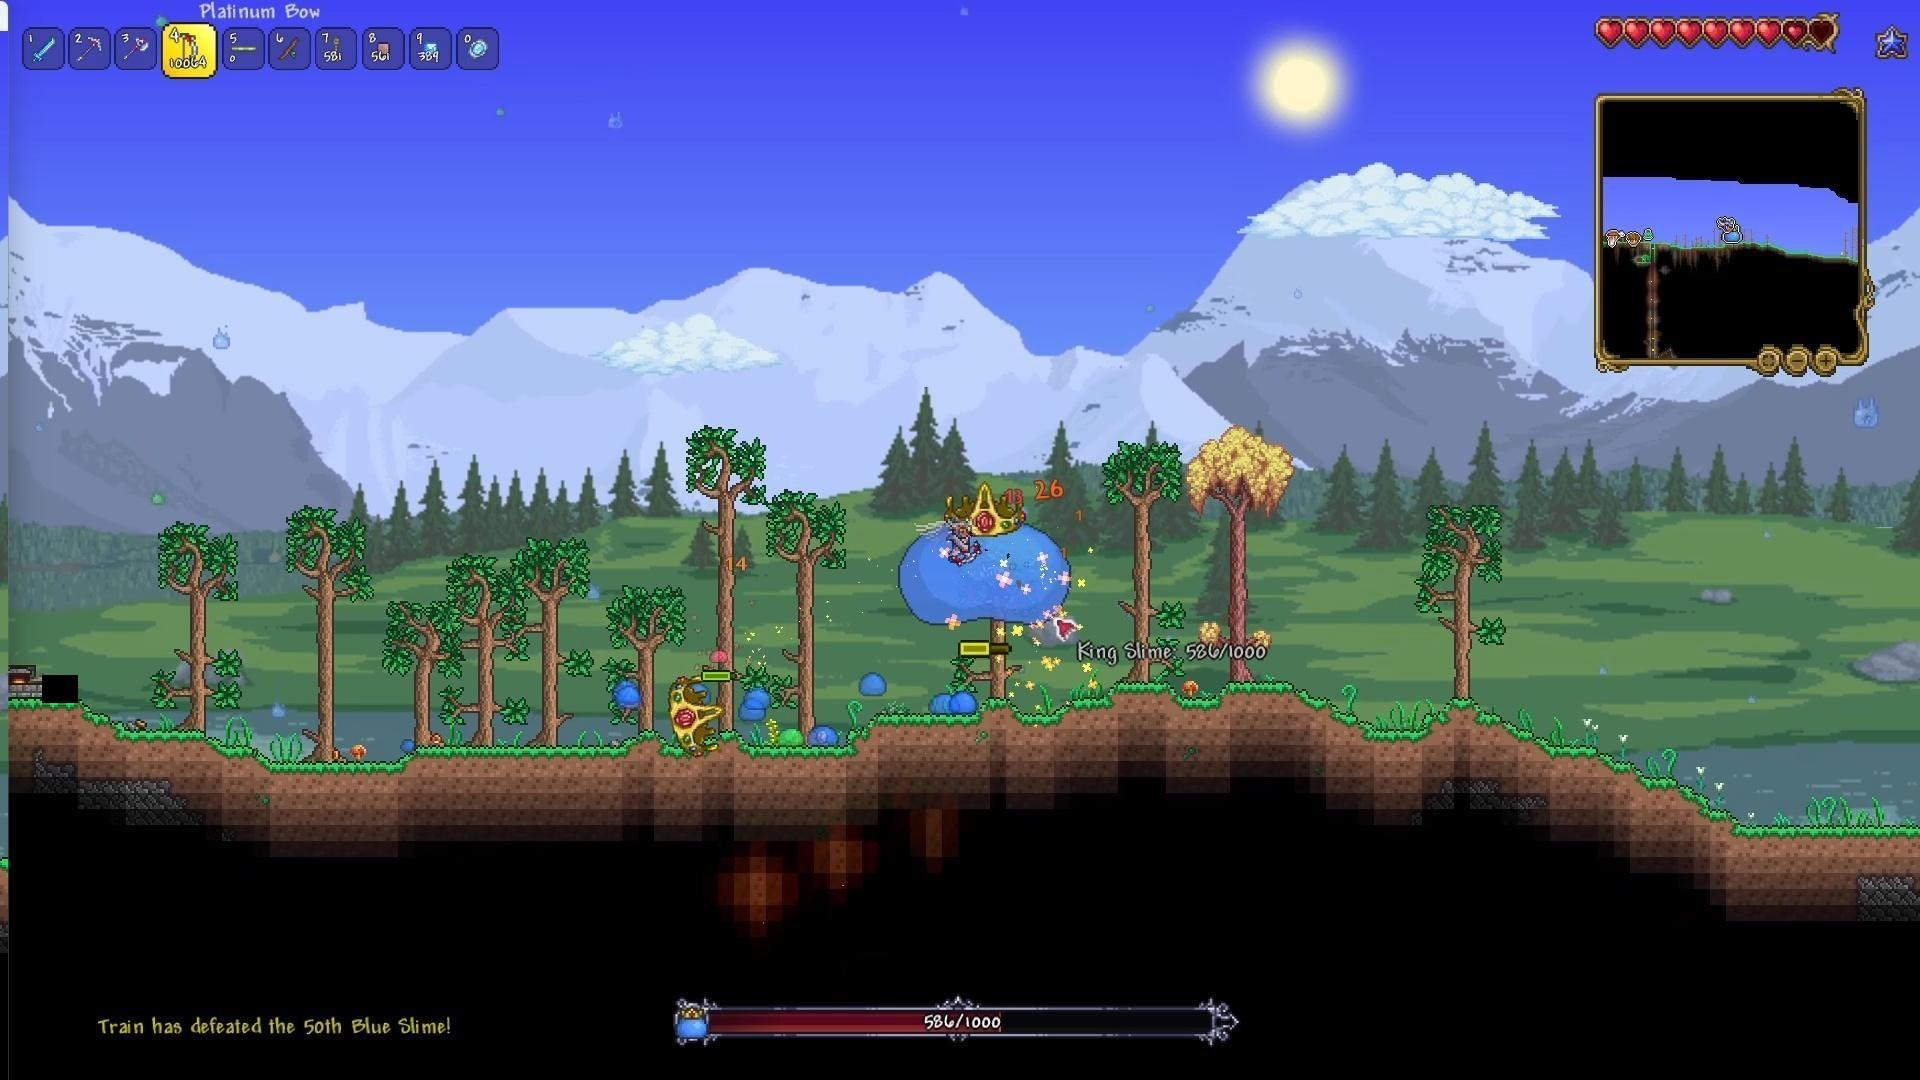slime: (803, 720, 843, 756), (945, 683, 981, 717), (926, 684, 955, 717), (855, 669, 886, 698), (775, 724, 804, 756), (613, 680, 646, 707), (741, 687, 774, 711), (705, 644, 732, 665)
